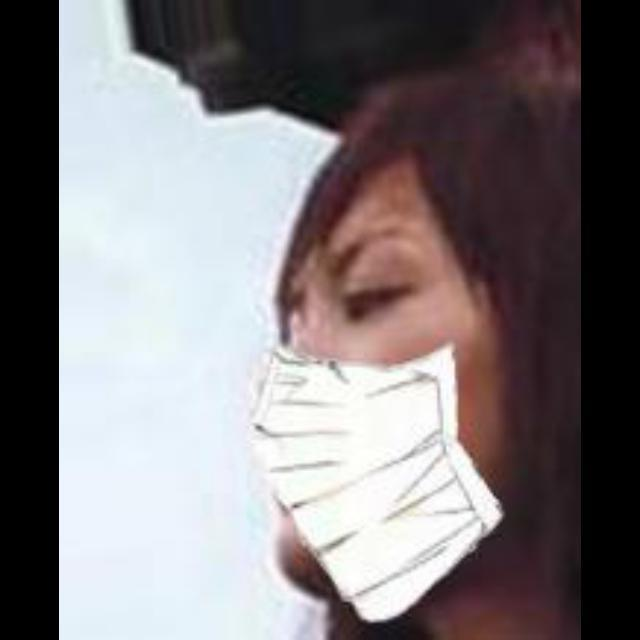suspicion: (243, 150, 577, 612)
